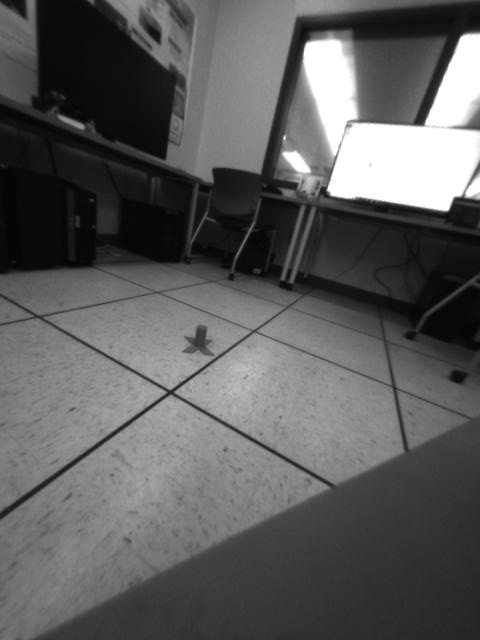X: (181, 324, 213, 356)
